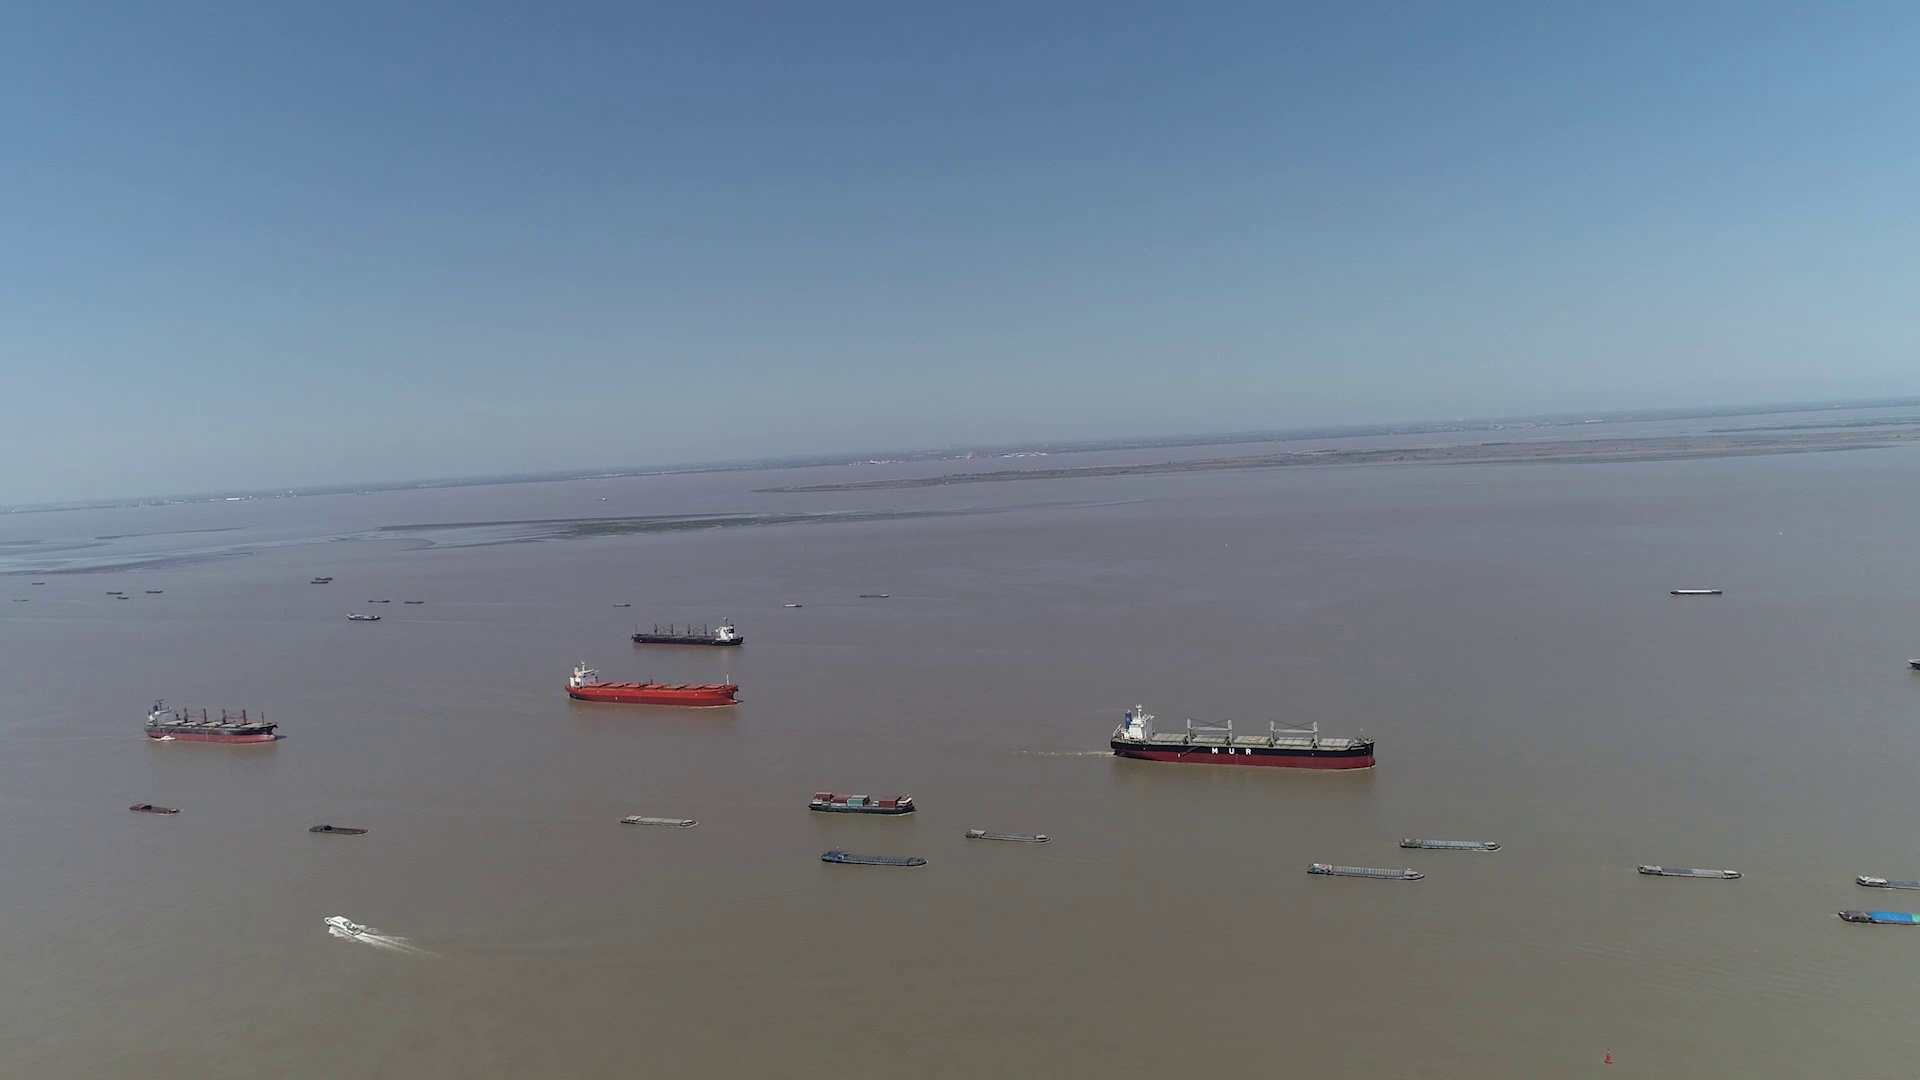ship: (1109, 702, 1377, 769), (562, 662, 738, 709), (144, 699, 278, 745), (632, 618, 742, 646), (1304, 862, 1425, 881), (808, 793, 913, 814), (1840, 902, 1917, 926), (823, 849, 923, 866), (1639, 862, 1739, 878), (1400, 836, 1498, 851), (967, 827, 1048, 844), (622, 812, 700, 825), (1855, 874, 1917, 890), (326, 914, 369, 935), (309, 823, 367, 836), (129, 802, 179, 814), (1669, 585, 1721, 593), (345, 611, 380, 620)
